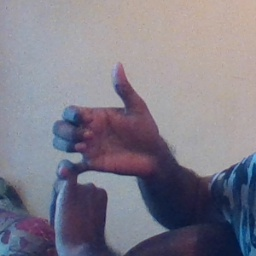S: (38, 57, 162, 227)
